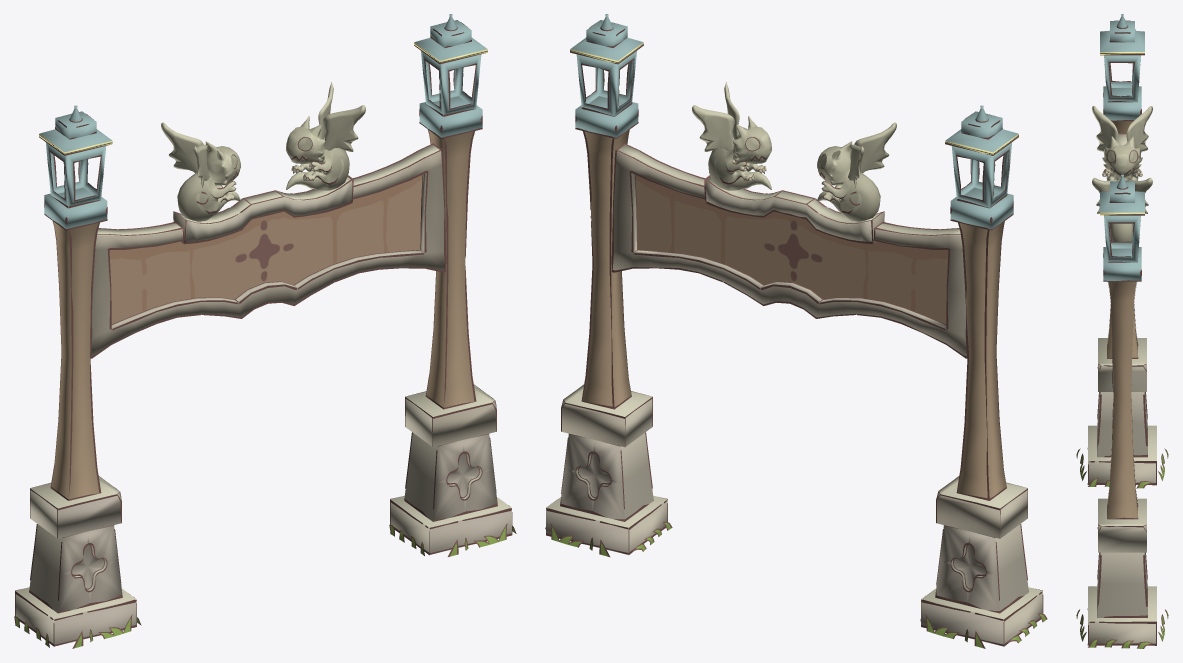
File: Mesh_Home_B_Idyll_3_SM.FBX
3 views of the same model, side by side, from view 1: azimuth 30°, elevation 25°; view 2: azimuth 150°, elevation 25°; view 3: azimuth 270°, elevation 25° (orthographic). The views are drawn at different scales.
Parts seen in each view (by area): view 1: Mesh_Home_B_Idyll_3; view 2: Mesh_Home_B_Idyll_3; view 3: Mesh_Home_B_Idyll_3.
Part boxes in pixels (left/top/right/bottom): Mesh_Home_B_Idyll_3: left=14, top=14, right=516, bottom=648; Mesh_Home_B_Idyll_3: left=545, top=14, right=1047, bottom=648; Mesh_Home_B_Idyll_3: left=1076, top=14, right=1168, bottom=648.
Bounding box in the file's own units: 277 × 290 × 53.46.
Materials: 1 (1 with a texture image).
